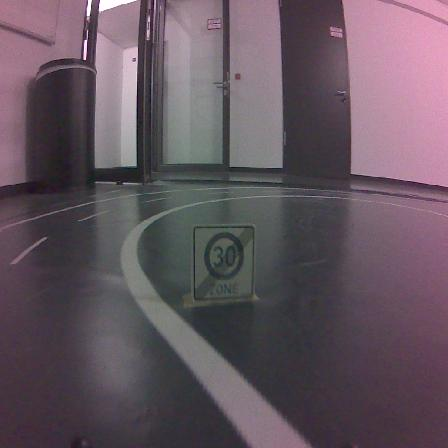30_ZONE_END: (191, 225, 255, 304)
